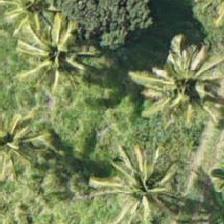coconut_tree: (15, 9, 105, 99), (142, 46, 223, 136), (102, 145, 192, 223), (0, 99, 53, 189), (0, 0, 77, 52)
